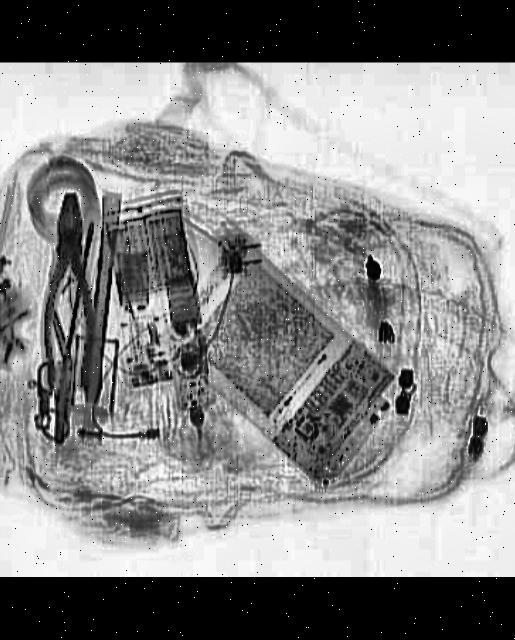Pliers: (42, 191, 99, 386)
